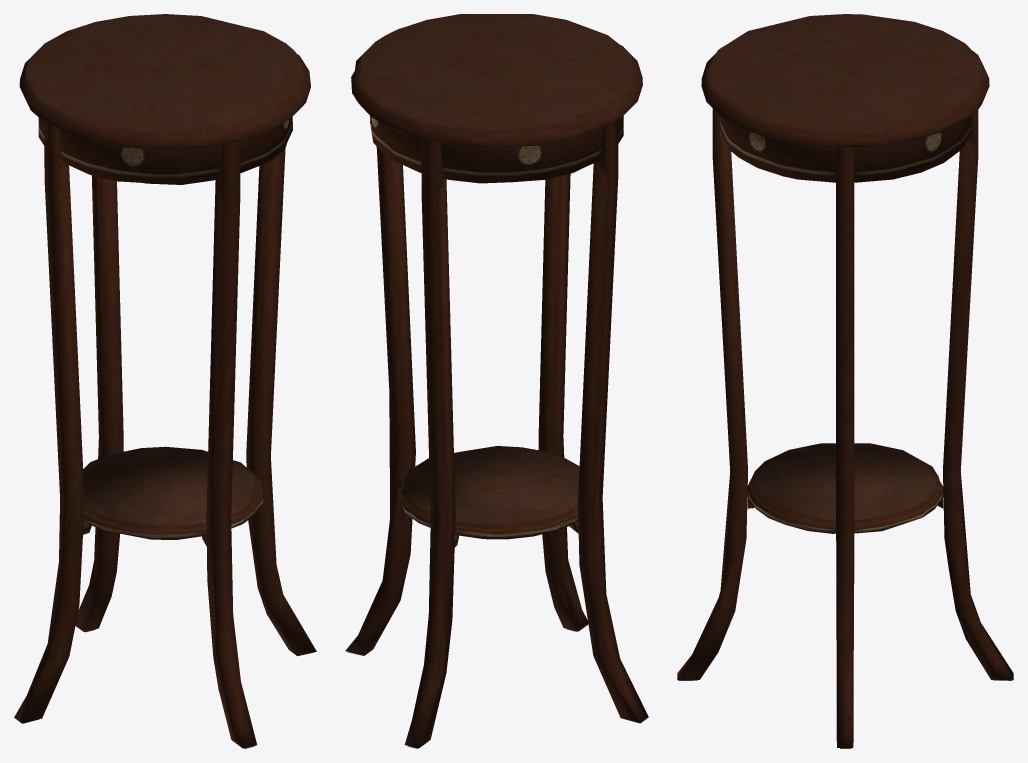
Rendered from side_table_tall_01.glb.
3 renders of one model, left to right at view 1: azimuth 30°, elevation 25°; view 2: azimuth 150°, elevation 25°; view 3: azimuth 270°, elevation 25°, orthographic.
Parts seen in each view (by area): view 1: side_table_tall_01; view 2: side_table_tall_01; view 3: side_table_tall_01.
Boxes of the visible parts, <box> form: side_table_tall_01: <box>14,14,316,748</box>; side_table_tall_01: <box>345,14,648,748</box>; side_table_tall_01: <box>677,14,1013,748</box>.
Bounding box in the file's own units: 0.3828 × 0.7611 × 0.3828.
Materials: 1 (1 with a texture image).
